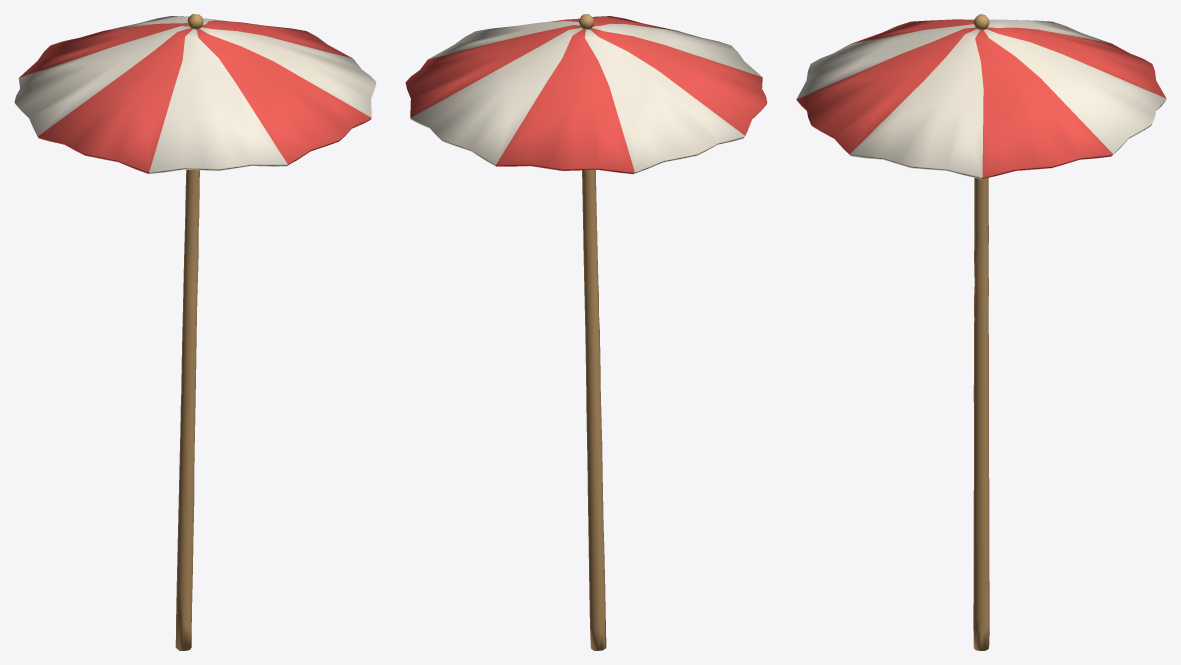
The model's file is shore_umbrella_lod2.glb.
3 renders of one model, left to right at view 1: azimuth 30°, elevation 25°; view 2: azimuth 150°, elevation 25°; view 3: azimuth 270°, elevation 25°, orthographic.
Visible parts, largest first — view 1: shore_umbrella.001; view 2: shore_umbrella.001; view 3: shore_umbrella.001.
Boxes of the visible parts, <box> form: shore_umbrella.001: <box>14,14,376,650</box>; shore_umbrella.001: <box>405,14,767,650</box>; shore_umbrella.001: <box>796,14,1166,650</box>.
Size of the model in its own units: 15.89 by 30.25 by 15.89.
